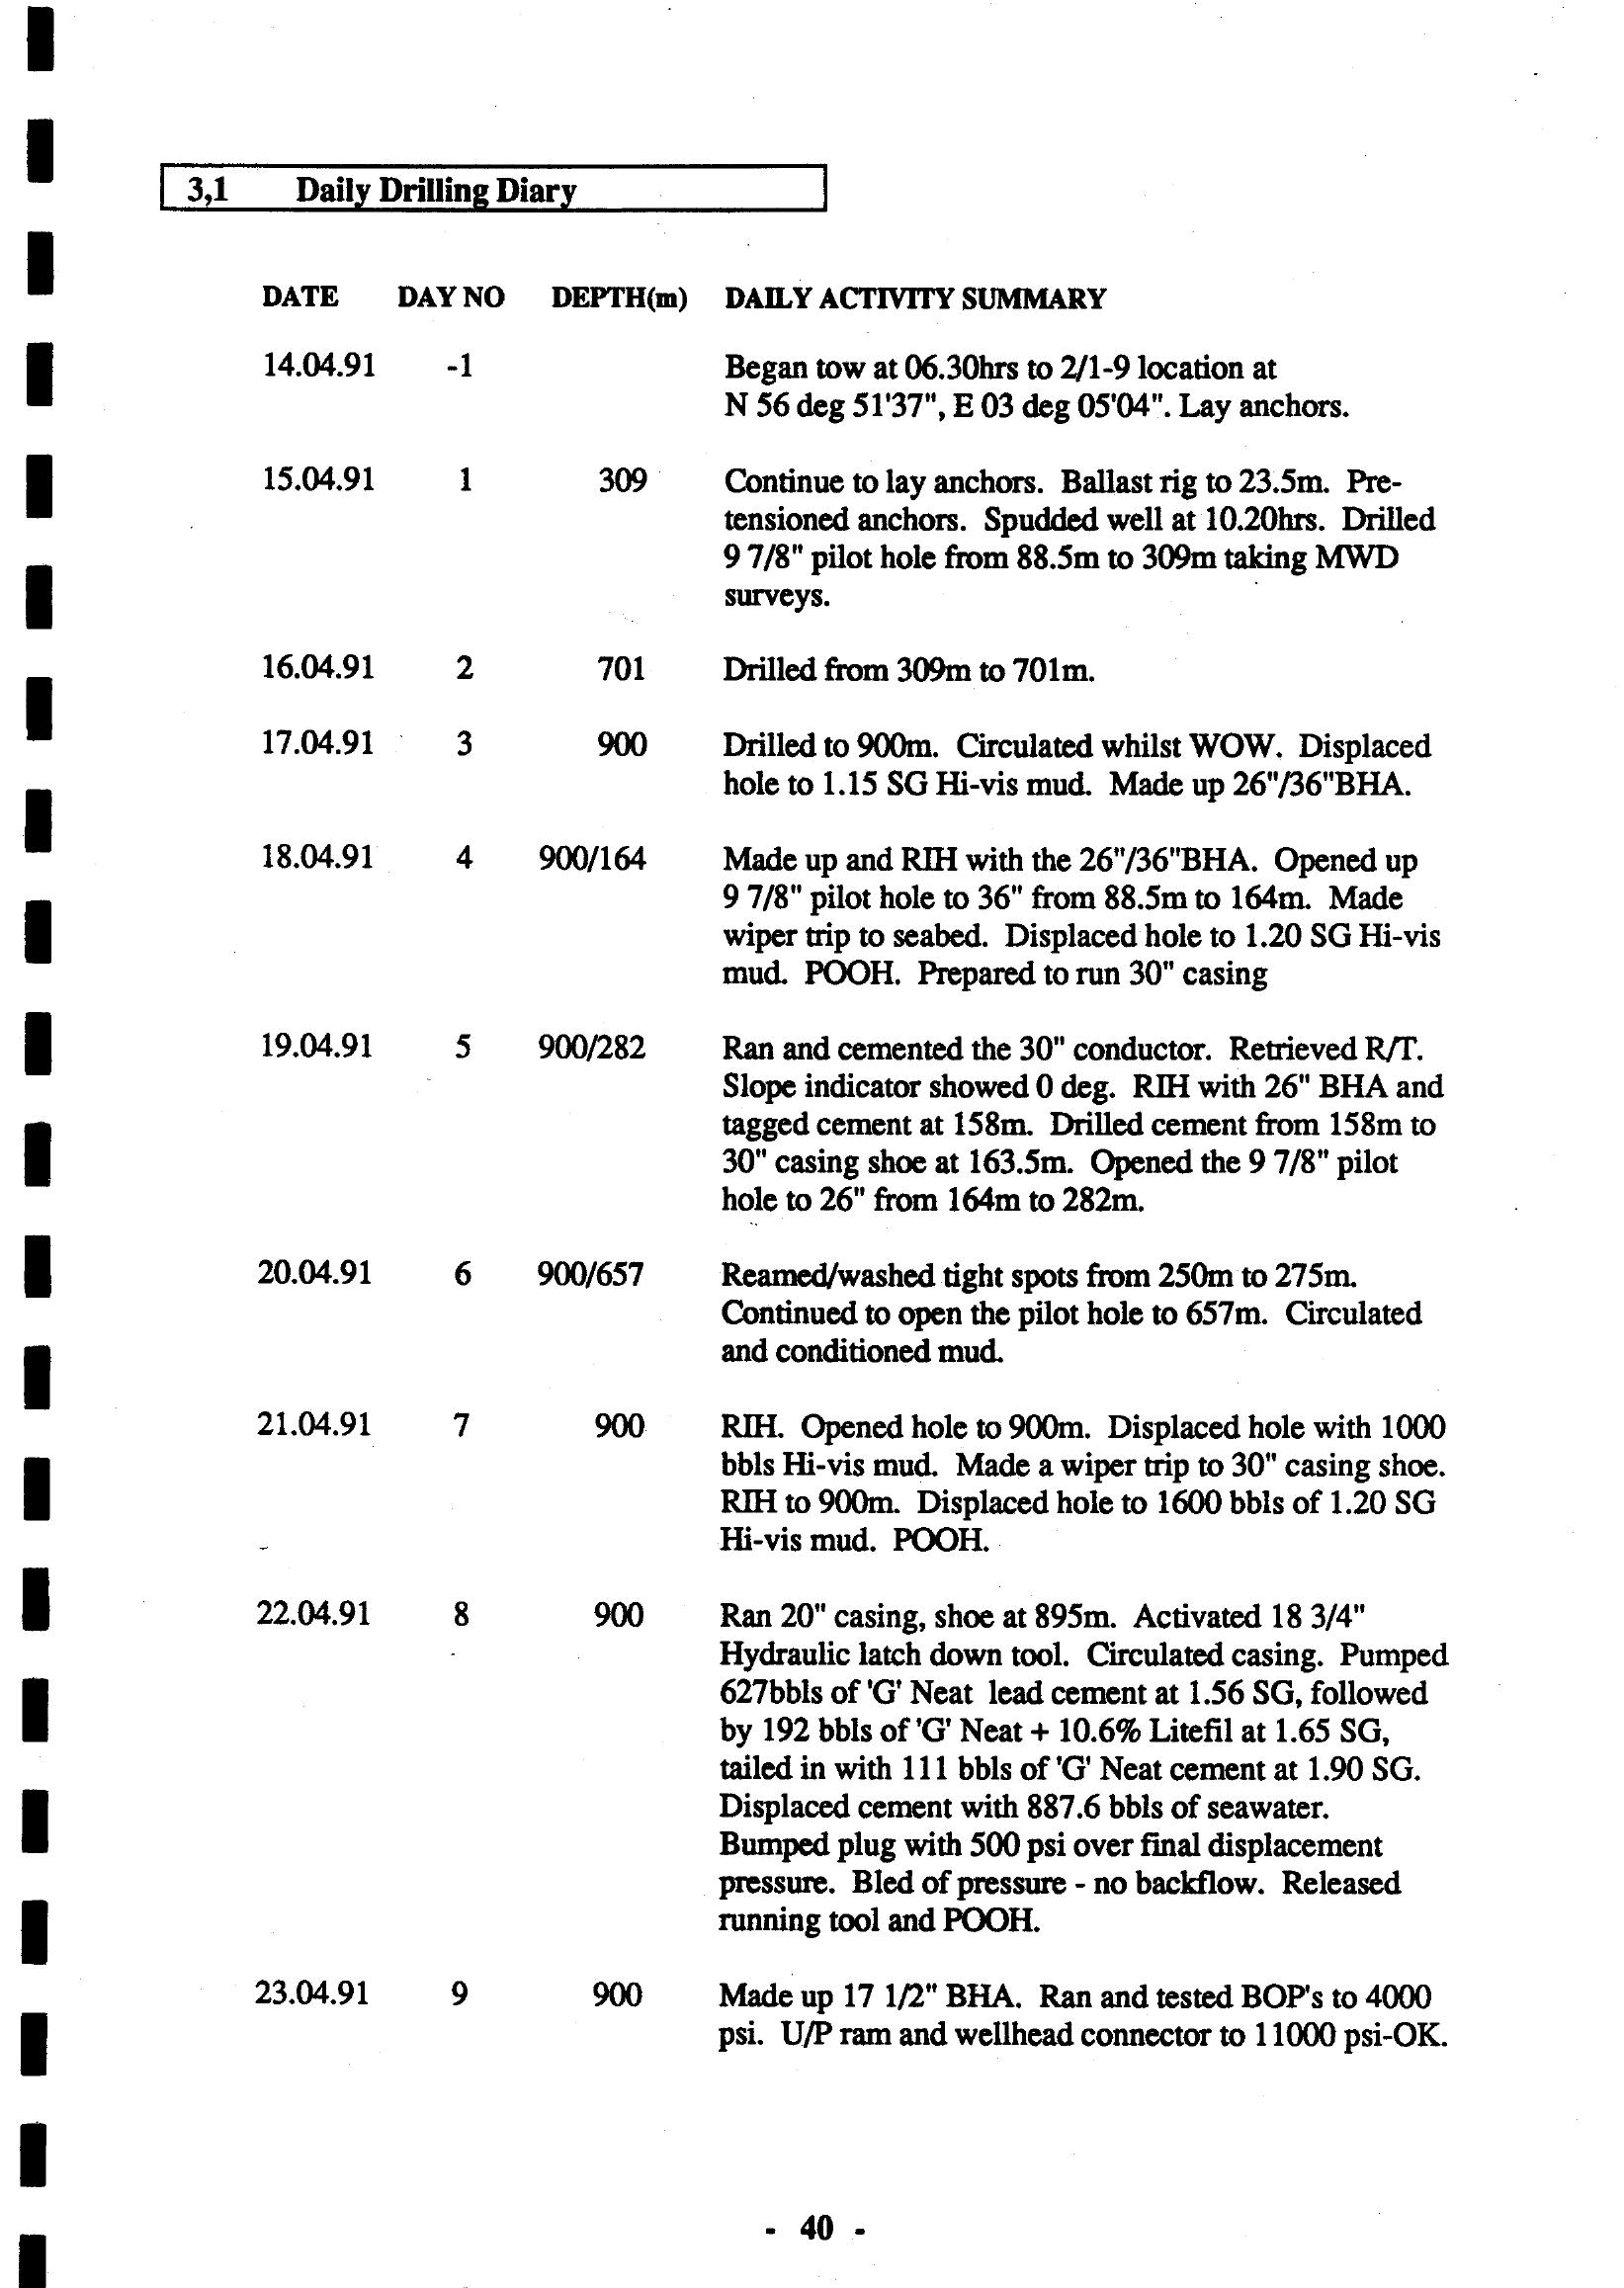table: (114, 109, 1547, 2100)
